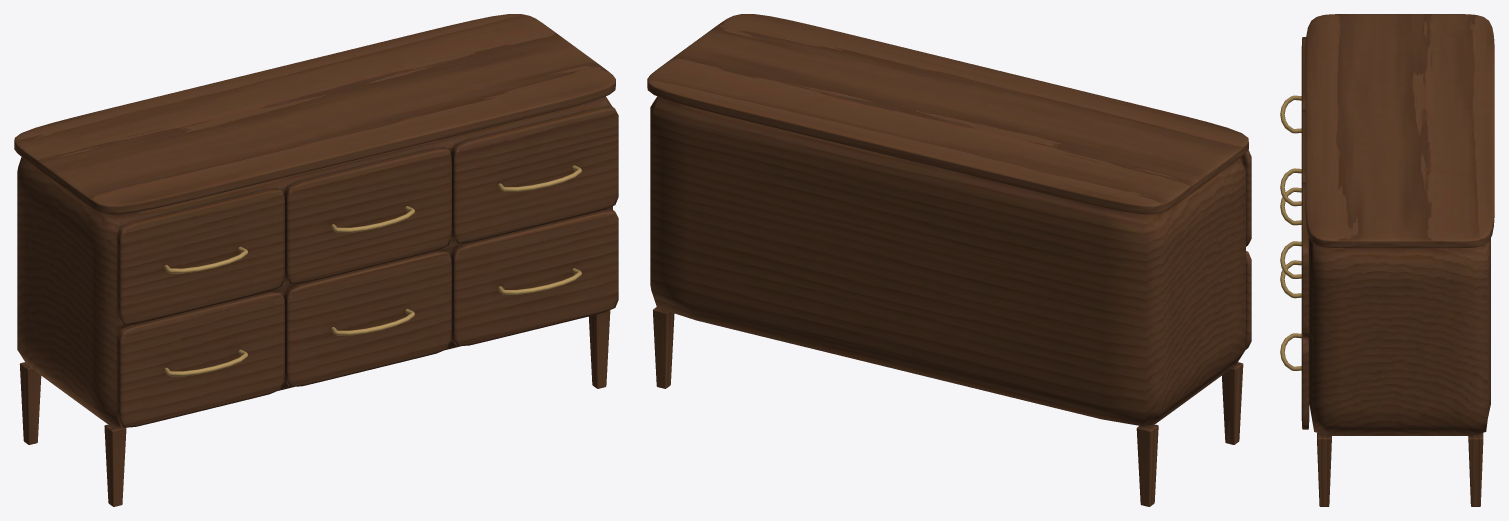
Rendered from walnut-mid-century.glb.
3 views of the same model, side by side, from view 1: azimuth 30°, elevation 25°; view 2: azimuth 150°, elevation 25°; view 3: azimuth 270°, elevation 25° (orthographic). The views are drawn at different scales.
Visible parts, largest first — view 1: wood_h, wood_v, brass_handle; view 2: wood_h, wood_v; view 3: wood_h, wood_v, brass_handle.
Boxes of the visible parts, x1=… form: wood_h: x1=14, y1=14, x2=618, y2=427; wood_v: x1=19, y1=310, x2=610, y2=506; brass_handle: x1=164, y1=165, x2=581, y2=376; wood_h: x1=647, y1=14, x2=1251, y2=426; wood_v: x1=653, y1=307, x2=1243, y2=506; wood_h: x1=1301, y1=14, x2=1494, y2=435; wood_v: x1=1317, y1=433, x2=1483, y2=506; brass_handle: x1=1280, y1=95, x2=1301, y2=370.
Size of the model in its own units: 1.42 by 0.798 by 0.5669.
3 materials, 3 textured.
